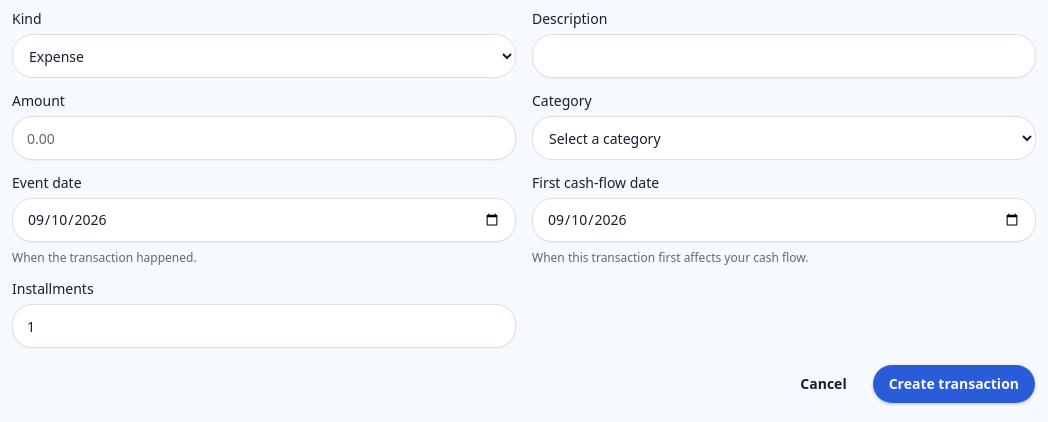
Scenario: TransactionForm › hides expense scheduling fields when switching to income
This screenshot has width=1048, height=422.
Select "Income" in the dropdown labelled "Kind" at [264, 56], box [12,34,516,78]
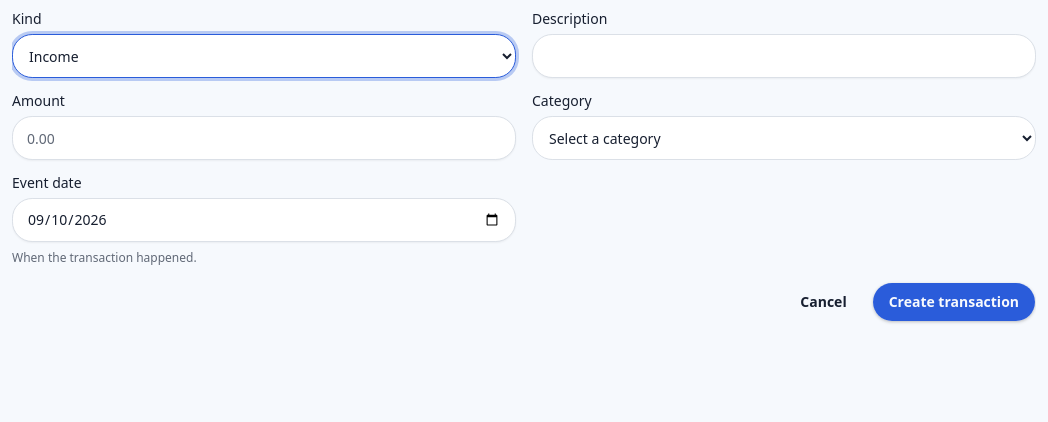
Expected: the label labelled "First cash-flow date" is gone
Expected: the label labelled "Installments" is gone
